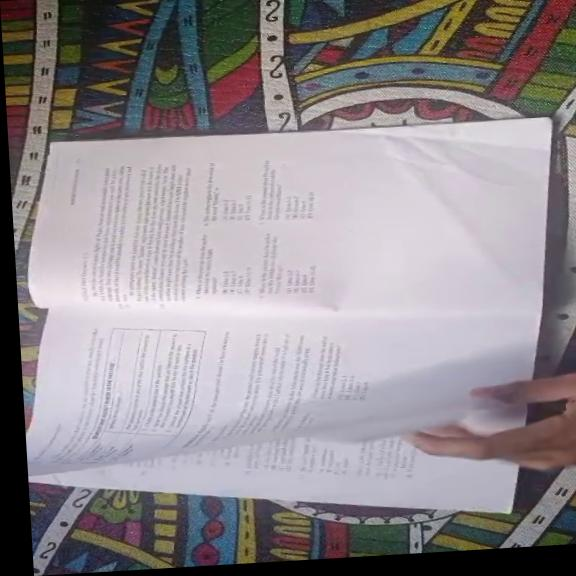Kertas: (30, 117, 552, 319), (26, 309, 539, 510), (26, 310, 539, 472), (28, 437, 518, 511)
